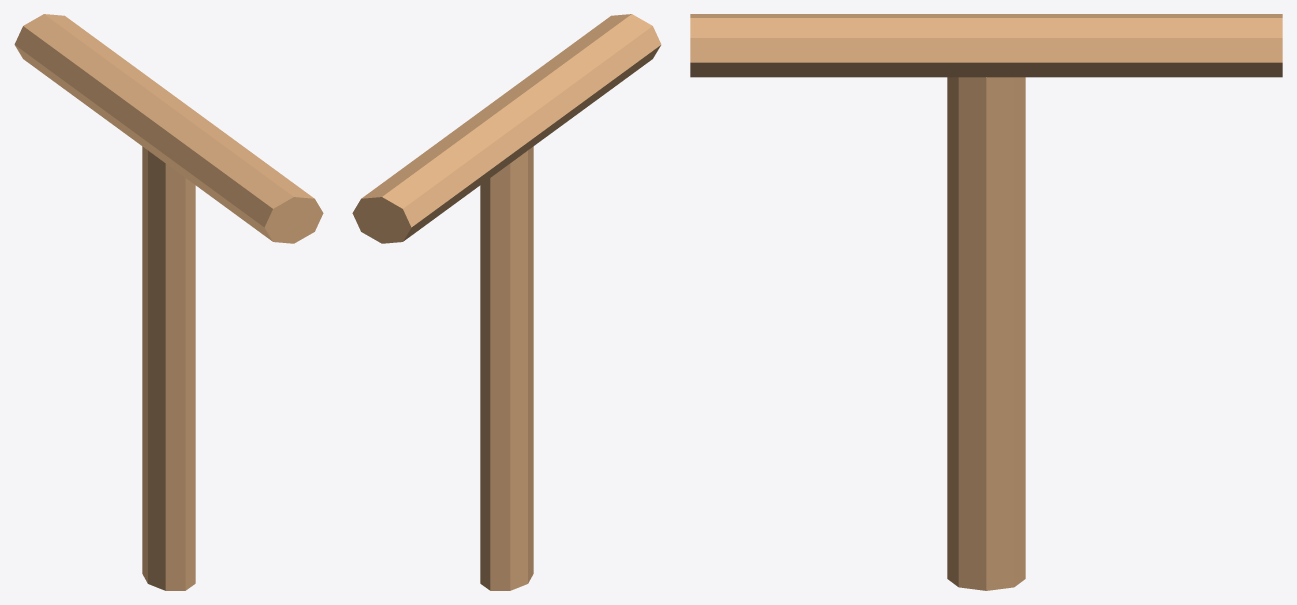
File: Perch.fbx
3 renders of one model, left to right at view 1: azimuth 30°, elevation 25°; view 2: azimuth 150°, elevation 25°; view 3: azimuth 270°, elevation 25°, orthographic. The views are drawn at different scales.
Parts seen in each view (by area): view 1: Perch; view 2: Perch; view 3: Perch.
Part boxes in pixels (left/top/right/bottom): Perch: left=14, top=14, right=323, bottom=590; Perch: left=352, top=14, right=661, bottom=590; Perch: left=690, top=14, right=1282, bottom=590.
Size of the model in its own units: 17.32 by 133 by 127.
